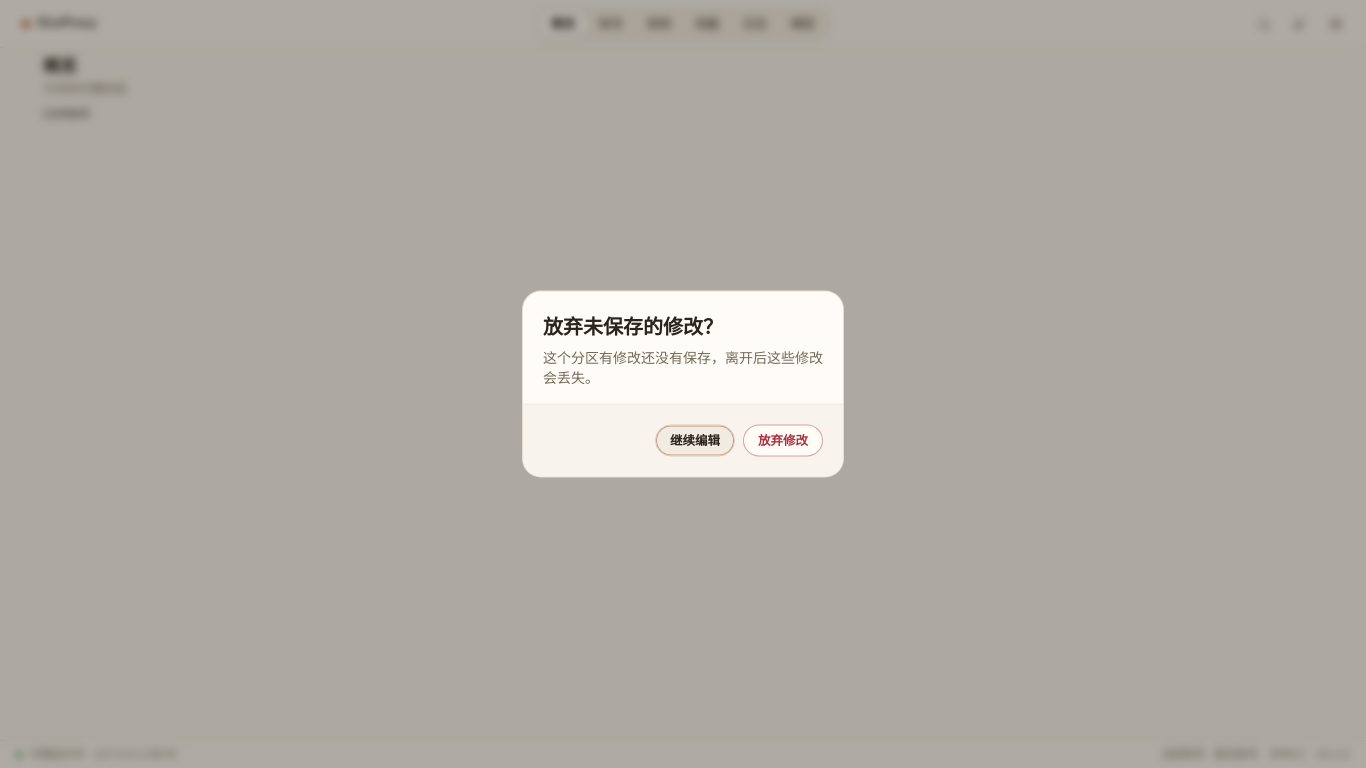
Test: opens the command palette with cmd+k and jumps to a page or an account
The width and height of the screenshot is (1366, 768).
Type keys "{Meta>}k{/Meta}"
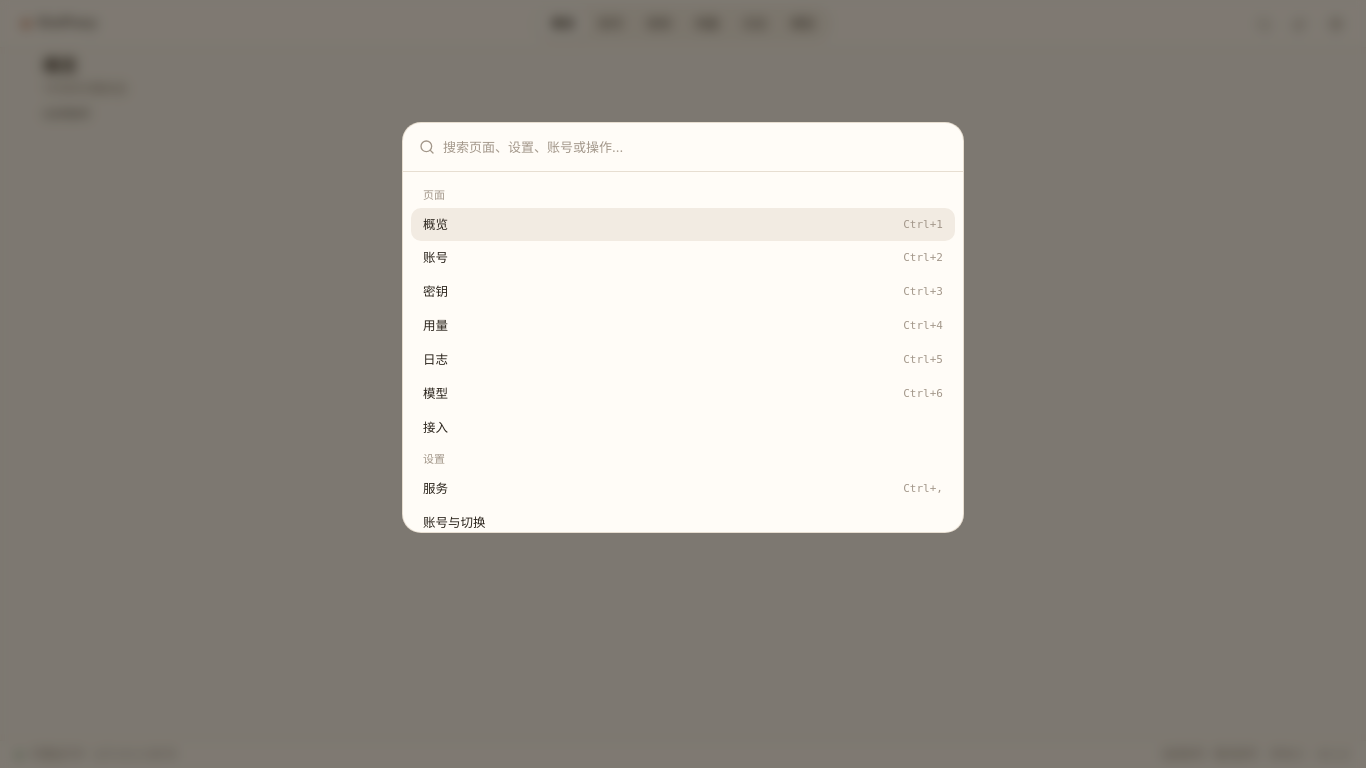
Type "密钥" into the dropdown named "命令面板" at [695, 147], box [443,123,947,171]
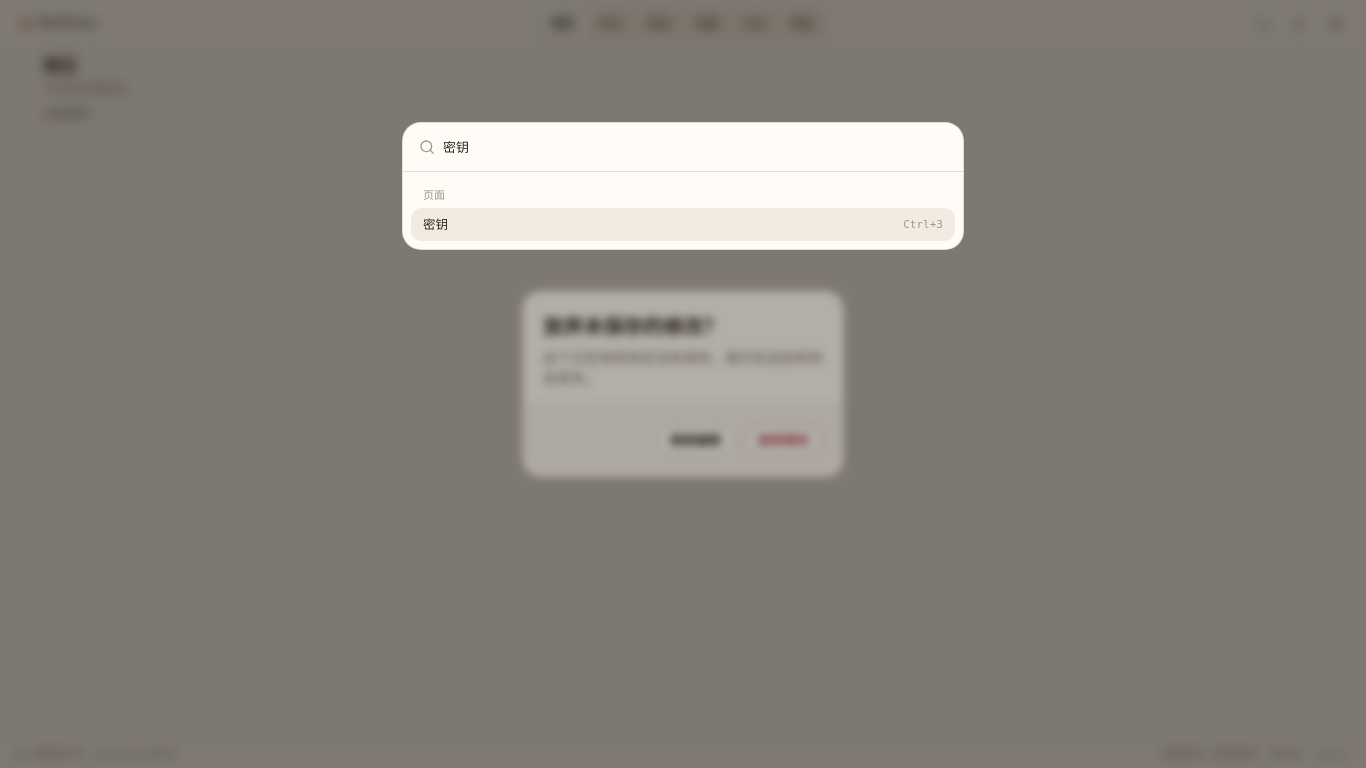
Press Enter
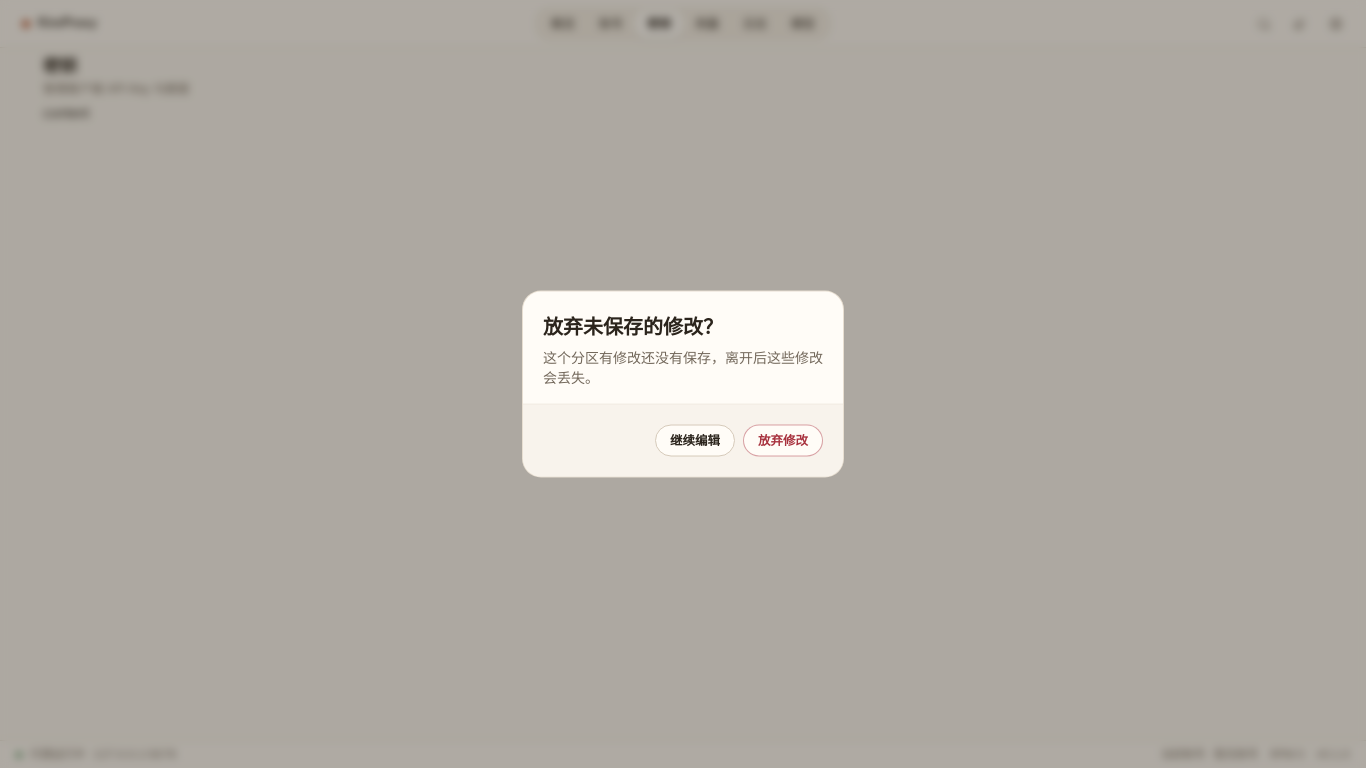
Now the heading "密钥" is shown, box [43,54,77,80]
Now the dialog "页面 密钥 Ctrl+3" is gone
Type keys "{Meta>}k{/Meta}"
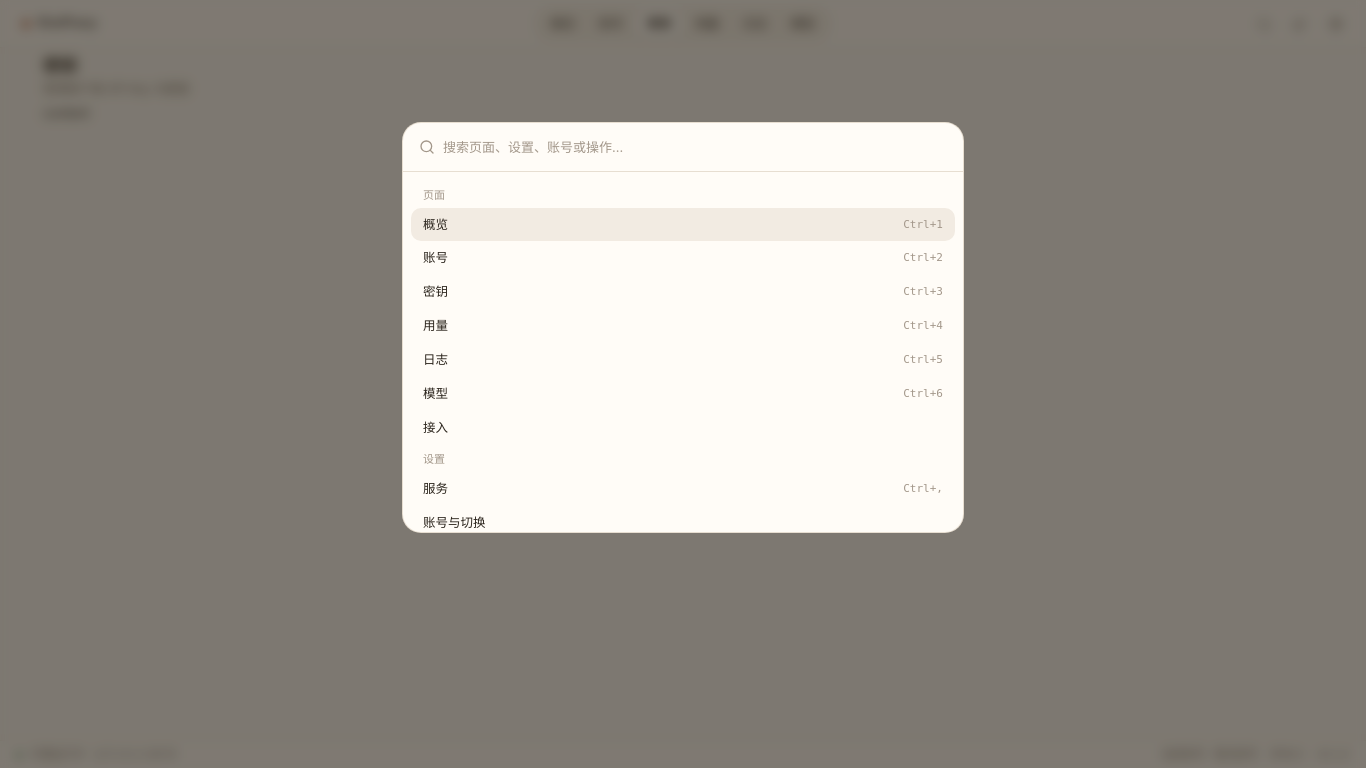
Type "backup" into the dropdown named "命令面板" at [695, 147], box [443,123,947,171]
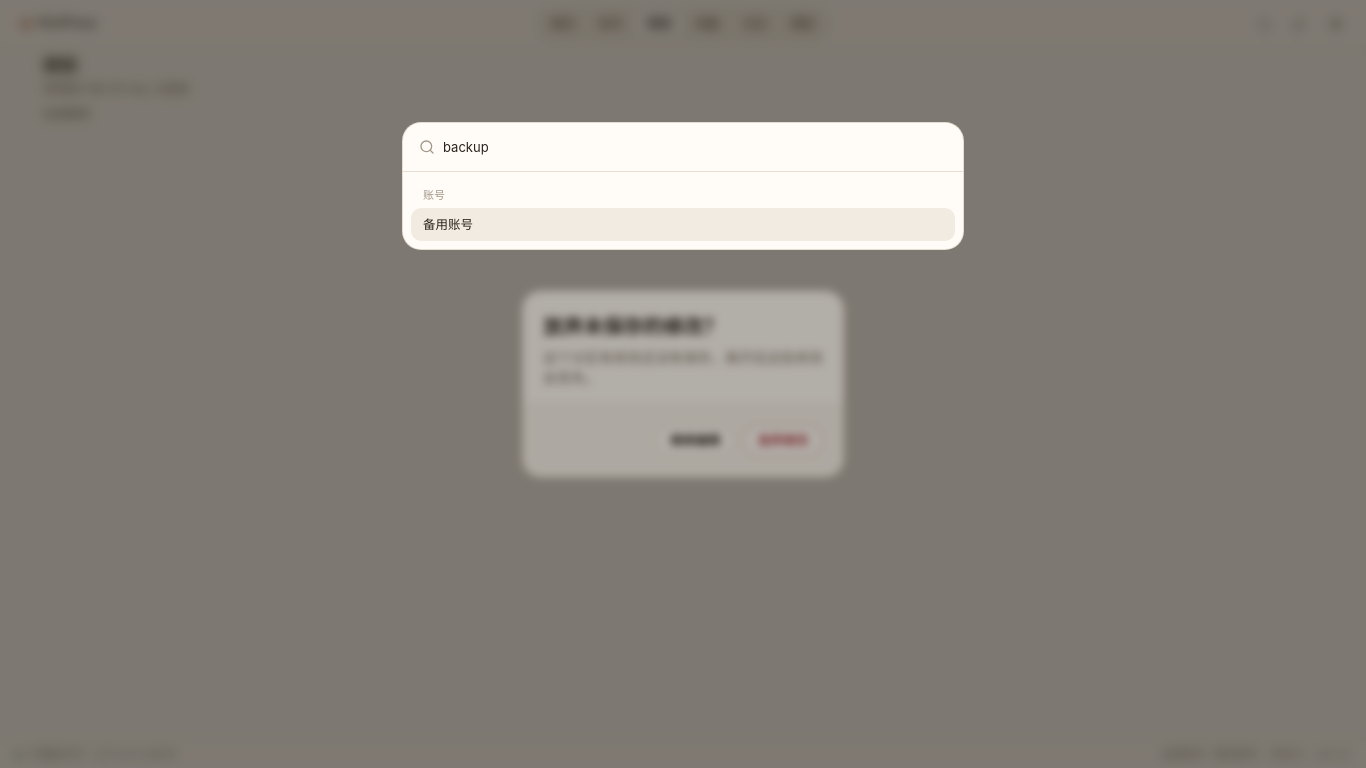
Click the option "备用账号" at [448, 224], box [411,208,955,241]
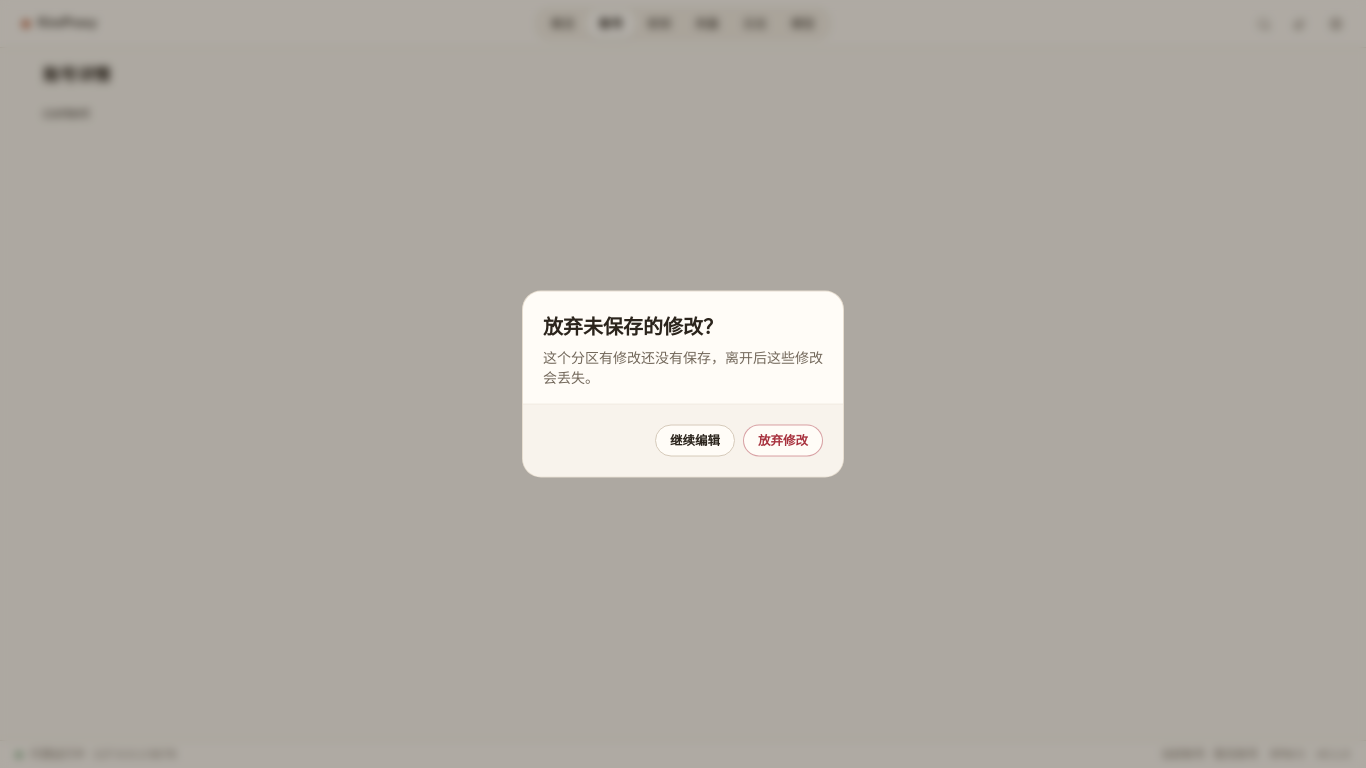
Now the heading "账号详情" is shown, box [43,63,110,89]
